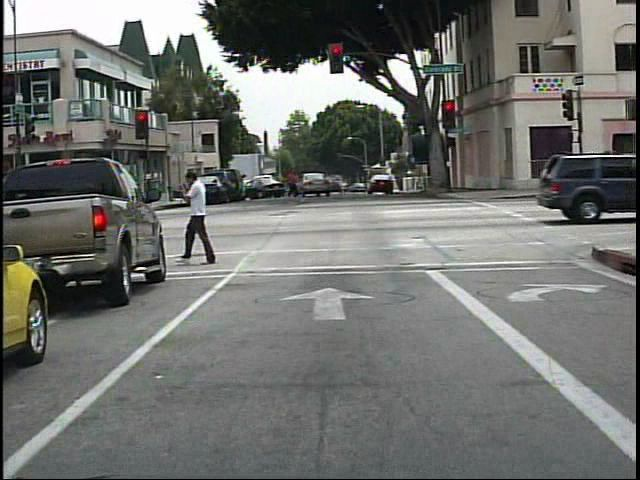person: (173, 169, 227, 267), (283, 163, 305, 207)
